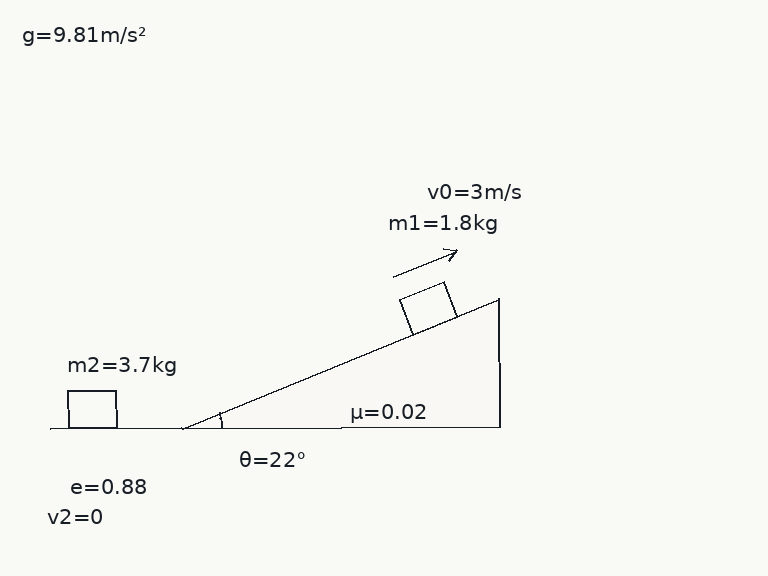block: (397, 281, 459, 336), (66, 389, 118, 429)
ramp: (180, 297, 501, 429)
